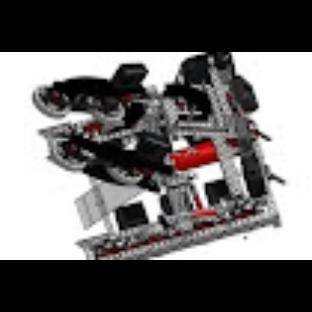Robot: (33, 52, 279, 257)
